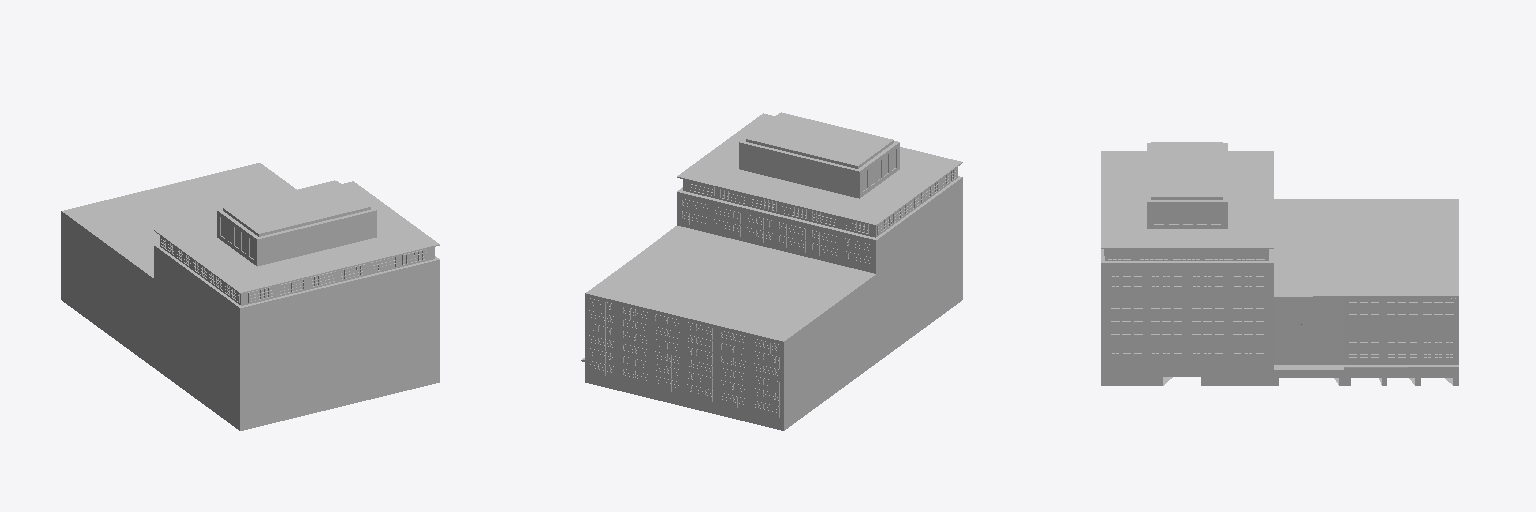
Rendered from Building10.obj.
3 renders of one model, left to right at view 1: azimuth 30°, elevation 25°; view 2: azimuth 150°, elevation 25°; view 3: azimuth 270°, elevation 25°, orthographic.
Parts seen in each view (by area): view 1: Mesh29 Group1 Model; view 2: Mesh29 Group1 Model; view 3: Mesh29 Group1 Model.
Part boxes in pixels (x1,y1,x2,y2): Mesh29 Group1 Model: (61,163,439,430); Mesh29 Group1 Model: (581,112,962,430); Mesh29 Group1 Model: (1101,142,1458,385).
Size of the model in its own units: 741 by 565 by 1092.